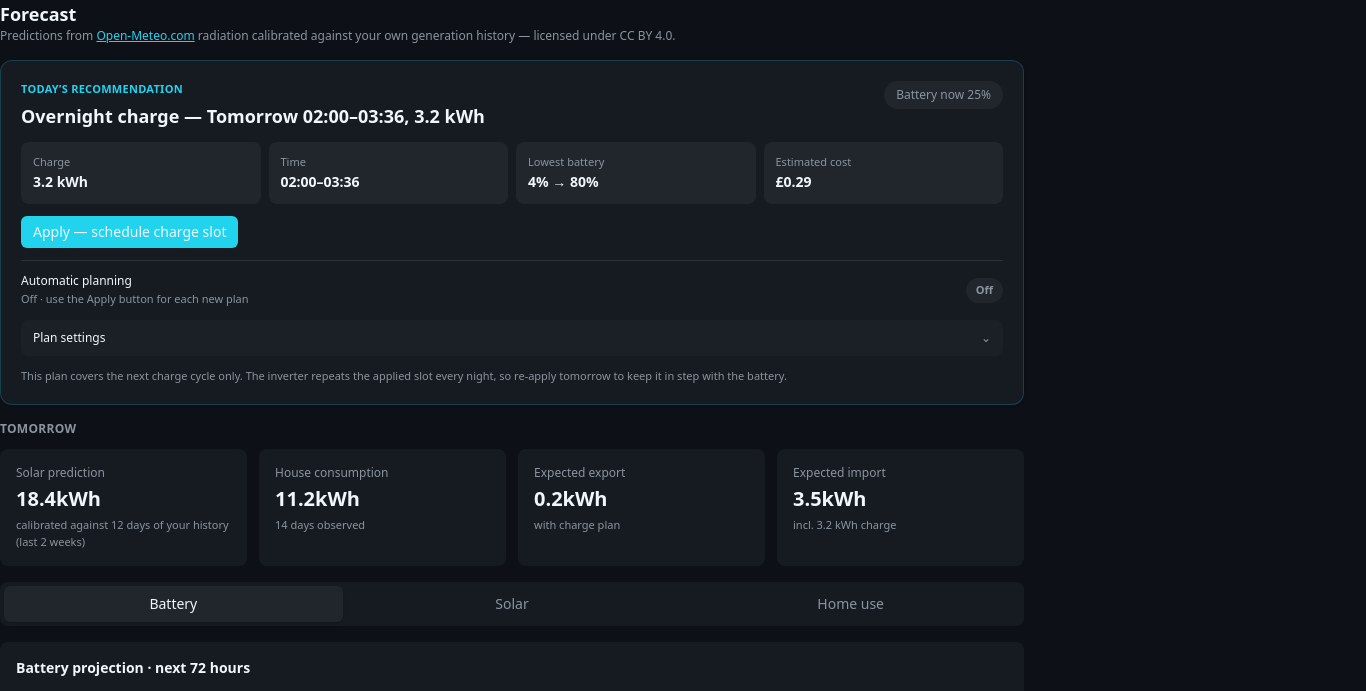
ForecastPage plan card › shows a retryable error when applying the charge plan fails
What coordinates should you click on to do the following:
click the button with test id "forecast-plan-apply"
I would click on:
 (130, 232)
Its box is [21, 216, 238, 248].
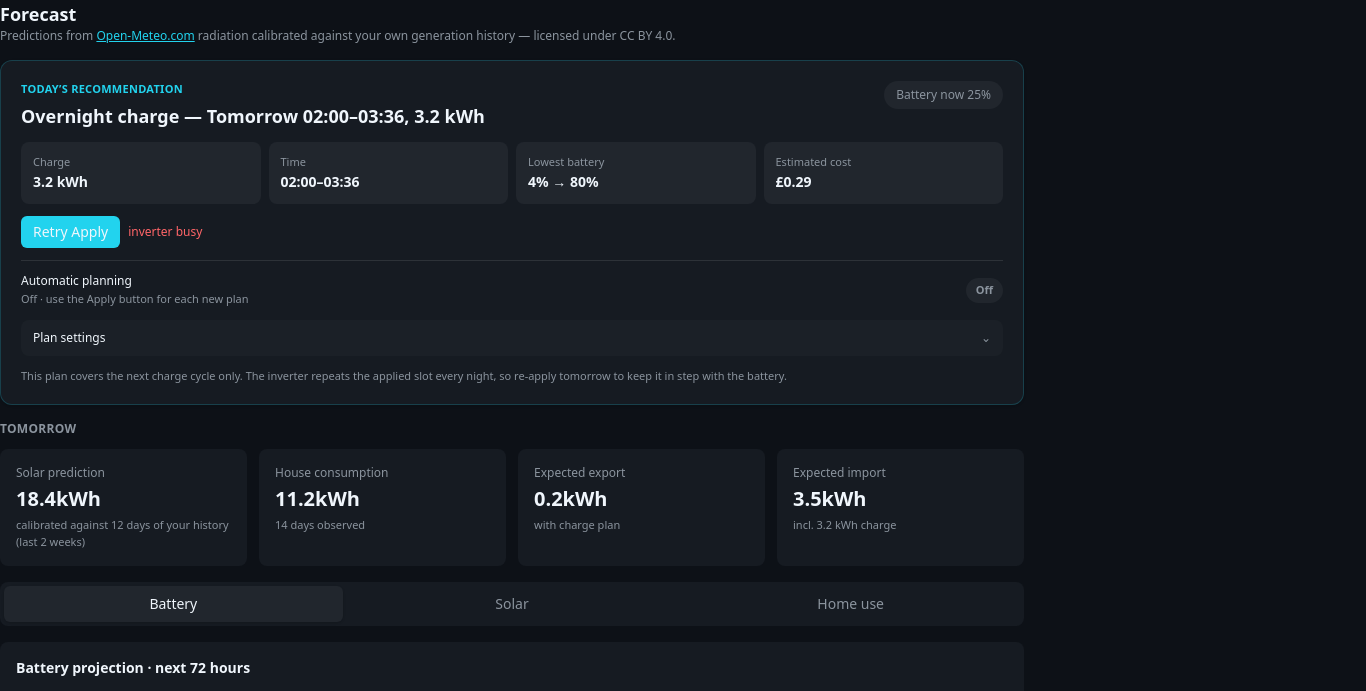
Expected: the button with test id "forecast-plan-apply" is enabled, [21, 216, 120, 248]
Result: the message reads "inverter busy" at [128, 223, 202, 240]
Result: the button with test id "forecast-plan-apply" reads "Retry Apply" at [21, 216, 120, 248]
